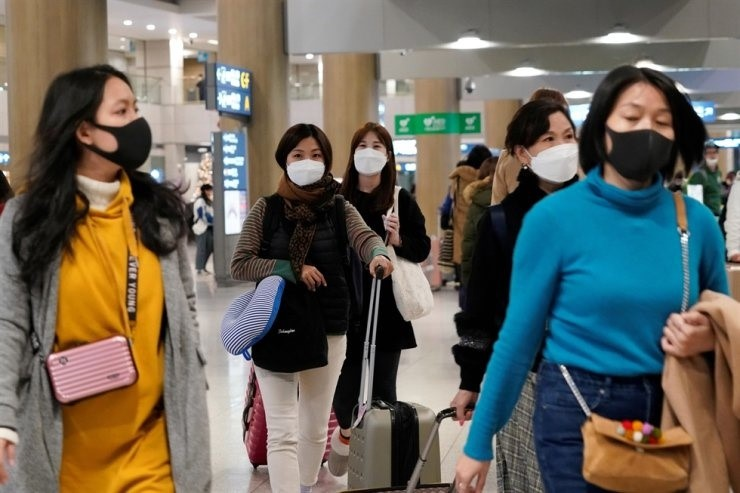face_with_mask: (597, 79, 686, 193), (75, 76, 162, 180), (515, 106, 586, 187), (277, 129, 334, 196), (346, 126, 397, 183)
